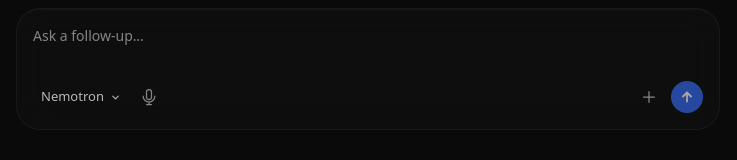
reference inputs › does not offer new attachments for a selected text-only model
Click the button named "Add to prompt" at (649, 97), box left=633, top=81, right=665, bottom=113
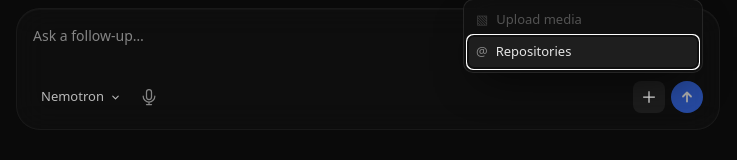
Expected: the button named "Add to prompt" is expanded, left=633, top=81, right=665, bottom=113
Expected: the menu item "▧ Upload media" is disabled, left=468, top=4, right=698, bottom=36
Expected: the menu item "@ Repositories" is enabled, left=468, top=36, right=698, bottom=68
Press Escape in the menu, box left=463, top=0, right=703, bottom=73
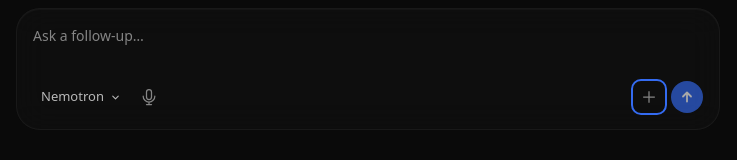
Expected: the button named "Add to prompt" is collapsed, left=633, top=81, right=665, bottom=113
Type "Build a text-only page" into the text box named "message" at (368, 49), box left=33, top=25, right=703, bottom=73
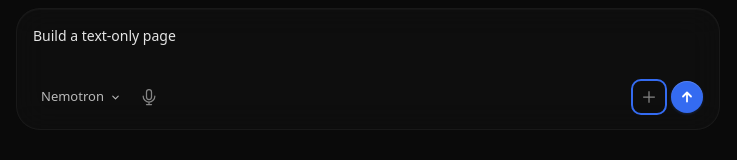
Expected: the button named "Send" is enabled, left=671, top=81, right=703, bottom=113
